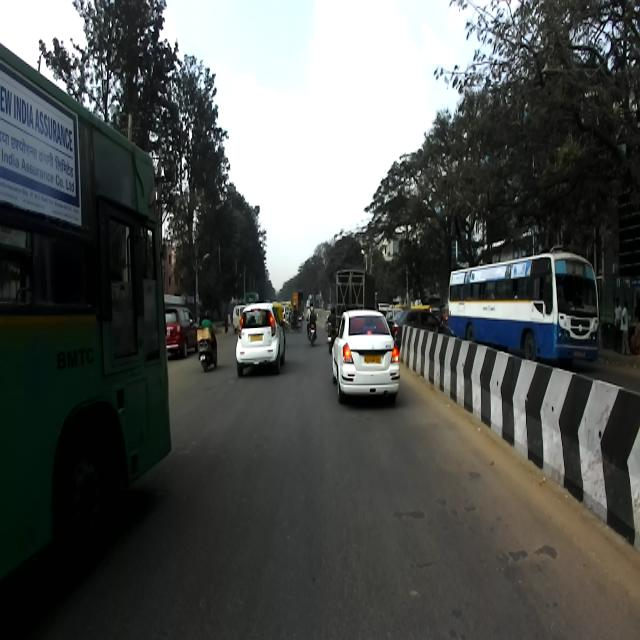bus ahead at: (0, 38, 176, 557)
car ahead at: (333, 310, 402, 408), (238, 303, 284, 371)
